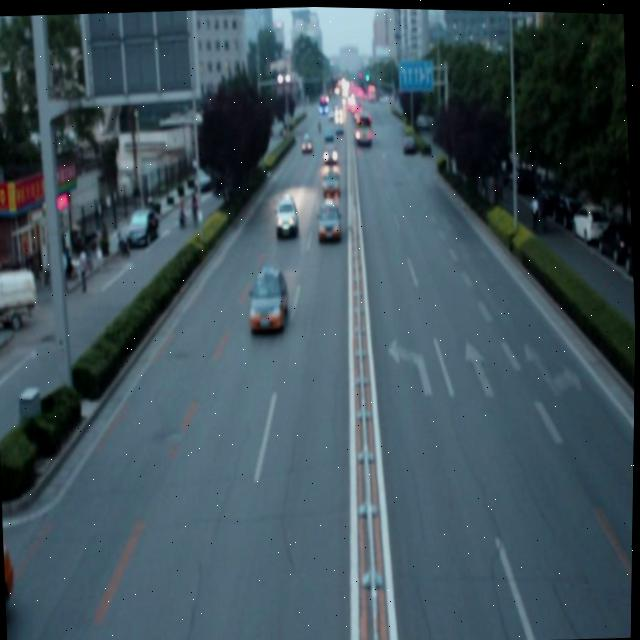car: (247, 265, 289, 331), (275, 196, 300, 238), (317, 199, 342, 240)
